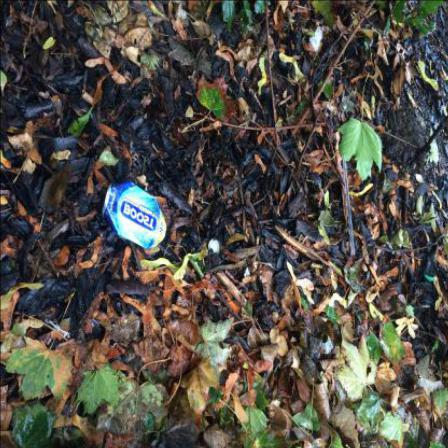Bottle cap: (209, 239, 222, 256)
Can: (102, 182, 167, 250)
Straw: (342, 156, 355, 257)
